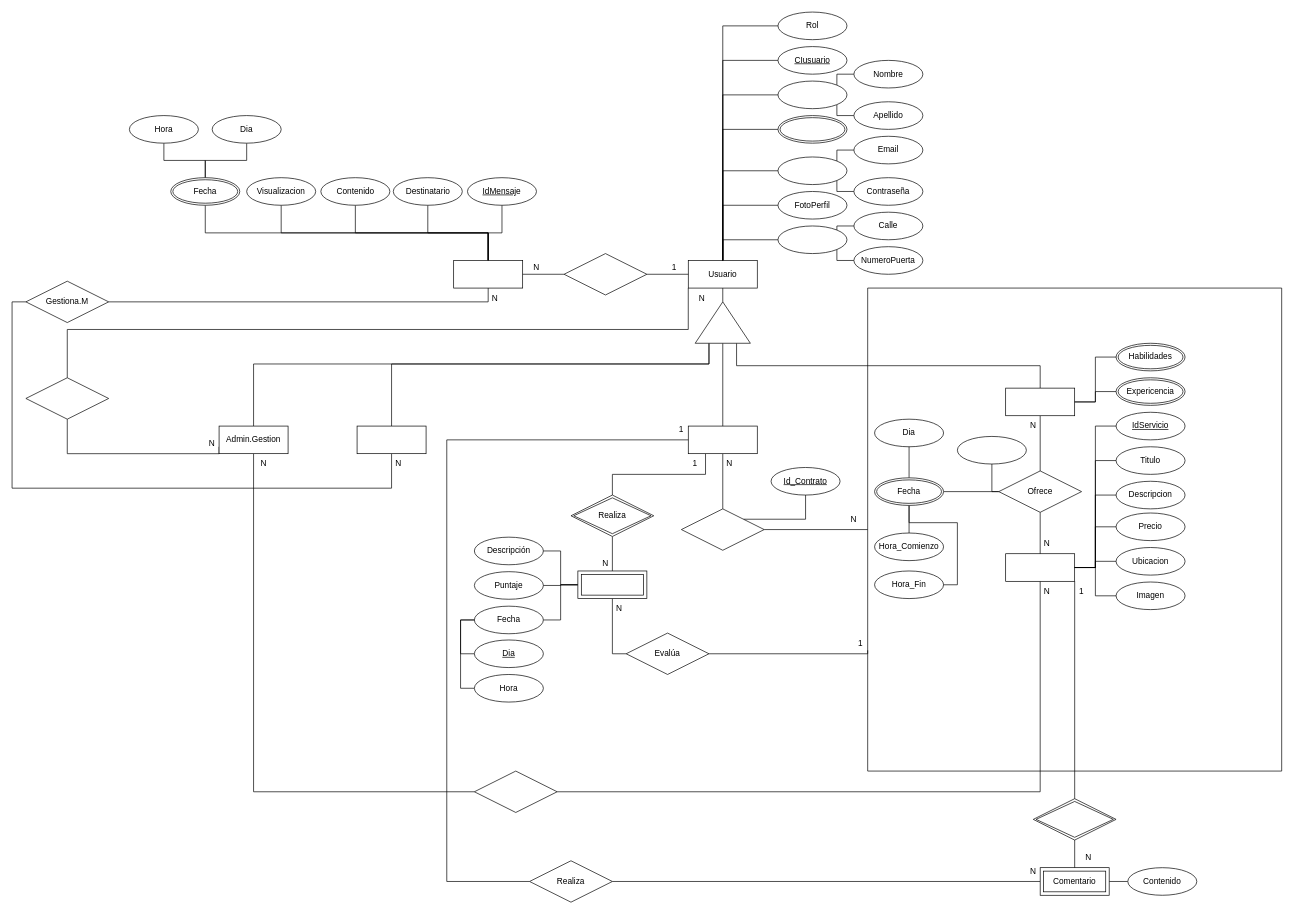
Image size: 1294x914. Some labels were removed from this diagram. The centre of each missing label's shape, as x and y in pixels:
"Admin.Soporte" goes at point (391, 439).
"Cliente" goes at point (722, 439).
"Contrata" goes at point (722, 529).
"Credenciales" goes at point (812, 170).
"Direccion" goes at point (812, 239).
"Disponibilidad" goes at point (991, 450).
"Envia" goes at point (605, 274).
"Gestiona.S" goes at point (515, 791).
"Gestiona.U" goes at point (67, 398).
"Mensaje" goes at point (488, 274).
"NombreCompleto" goes at point (812, 94).
"Proveedor" goes at point (1040, 401).
"Reseña" goes at point (612, 584).
"Servicio" goes at point (1040, 567).
"Teléfono" goes at point (812, 129).
"Tiene" goes at point (1074, 819).
